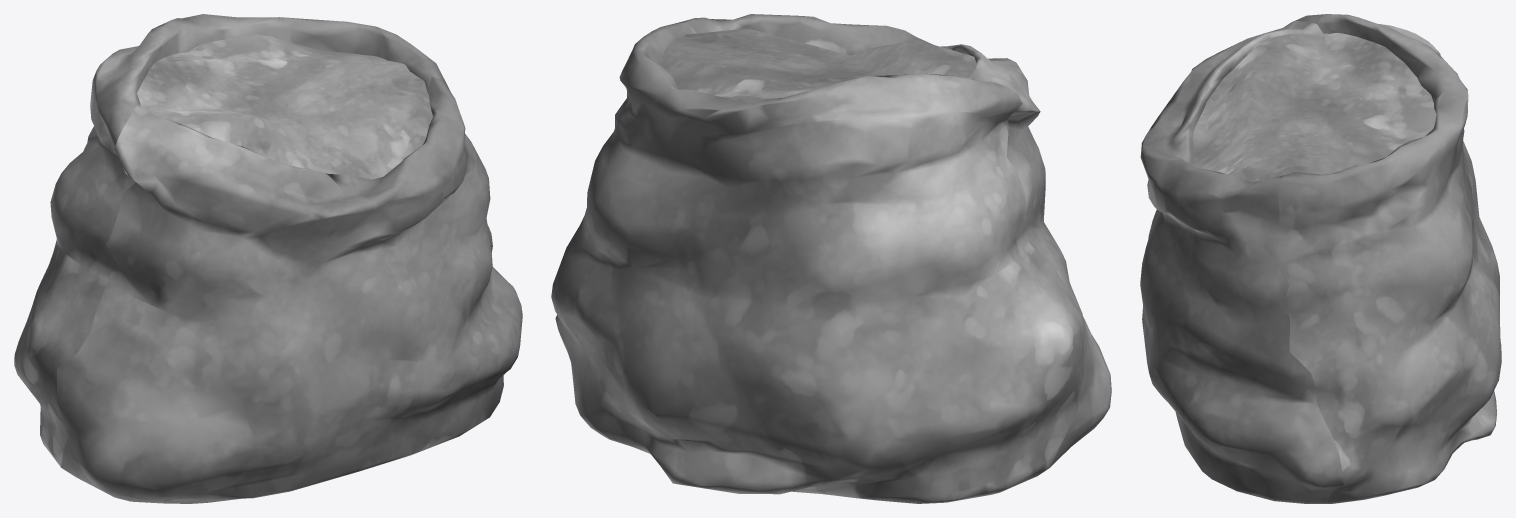
Rendered from SM_FoodSac_01a.fbx.
The picture shows the model from 3 angles, left to right: view 1: azimuth 30°, elevation 25°; view 2: azimuth 150°, elevation 25°; view 3: azimuth 270°, elevation 25°; orthographic projection. The views are drawn at different scales.
Visible parts, largest first — view 1: SM_FoodSac_01a_LOD0; view 2: SM_FoodSac_01a_LOD0; view 3: SM_FoodSac_01a_LOD0.
Part boxes in pixels (<box>): SM_FoodSac_01a_LOD0: <box>14,14,522,503</box>; SM_FoodSac_01a_LOD0: <box>551,14,1111,503</box>; SM_FoodSac_01a_LOD0: <box>1140,14,1501,503</box>.
Bounding box in the file's own units: 91.93 × 65.23 × 70.02.
